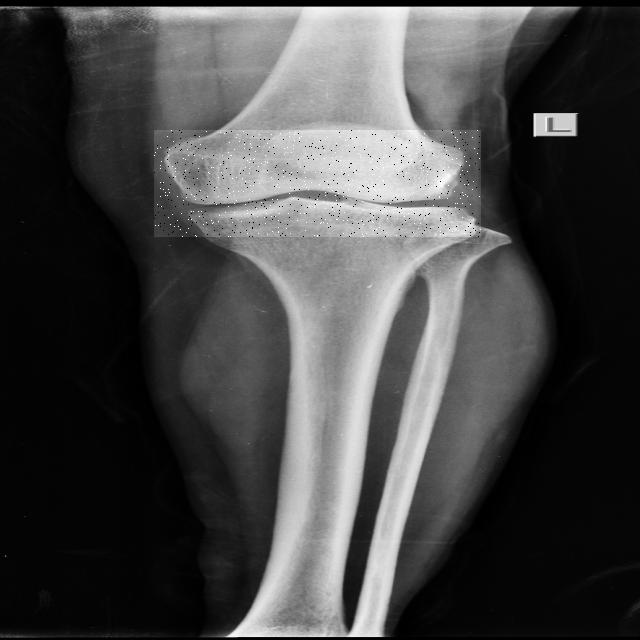normal: (154, 130, 481, 237)
